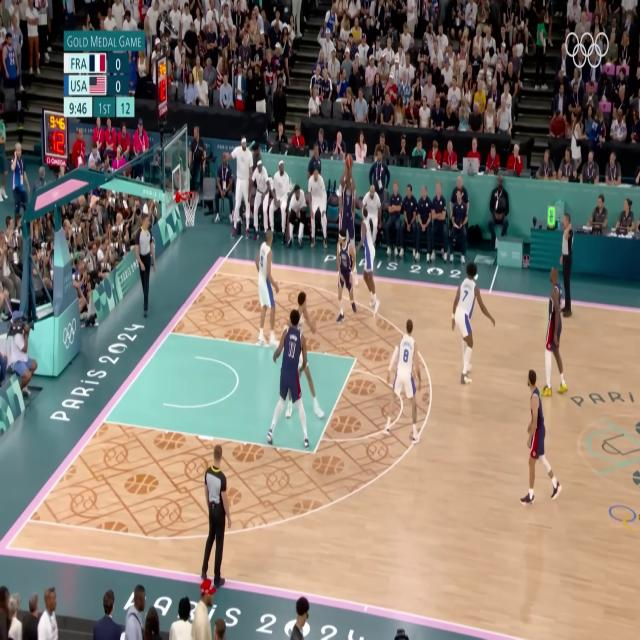ball-handler: (332, 149, 361, 284)
player: (509, 364, 565, 506), (442, 260, 500, 391), (262, 307, 308, 456), (532, 262, 578, 400), (287, 284, 328, 436), (386, 312, 424, 448), (250, 224, 283, 350), (354, 196, 384, 318), (326, 231, 360, 326)
